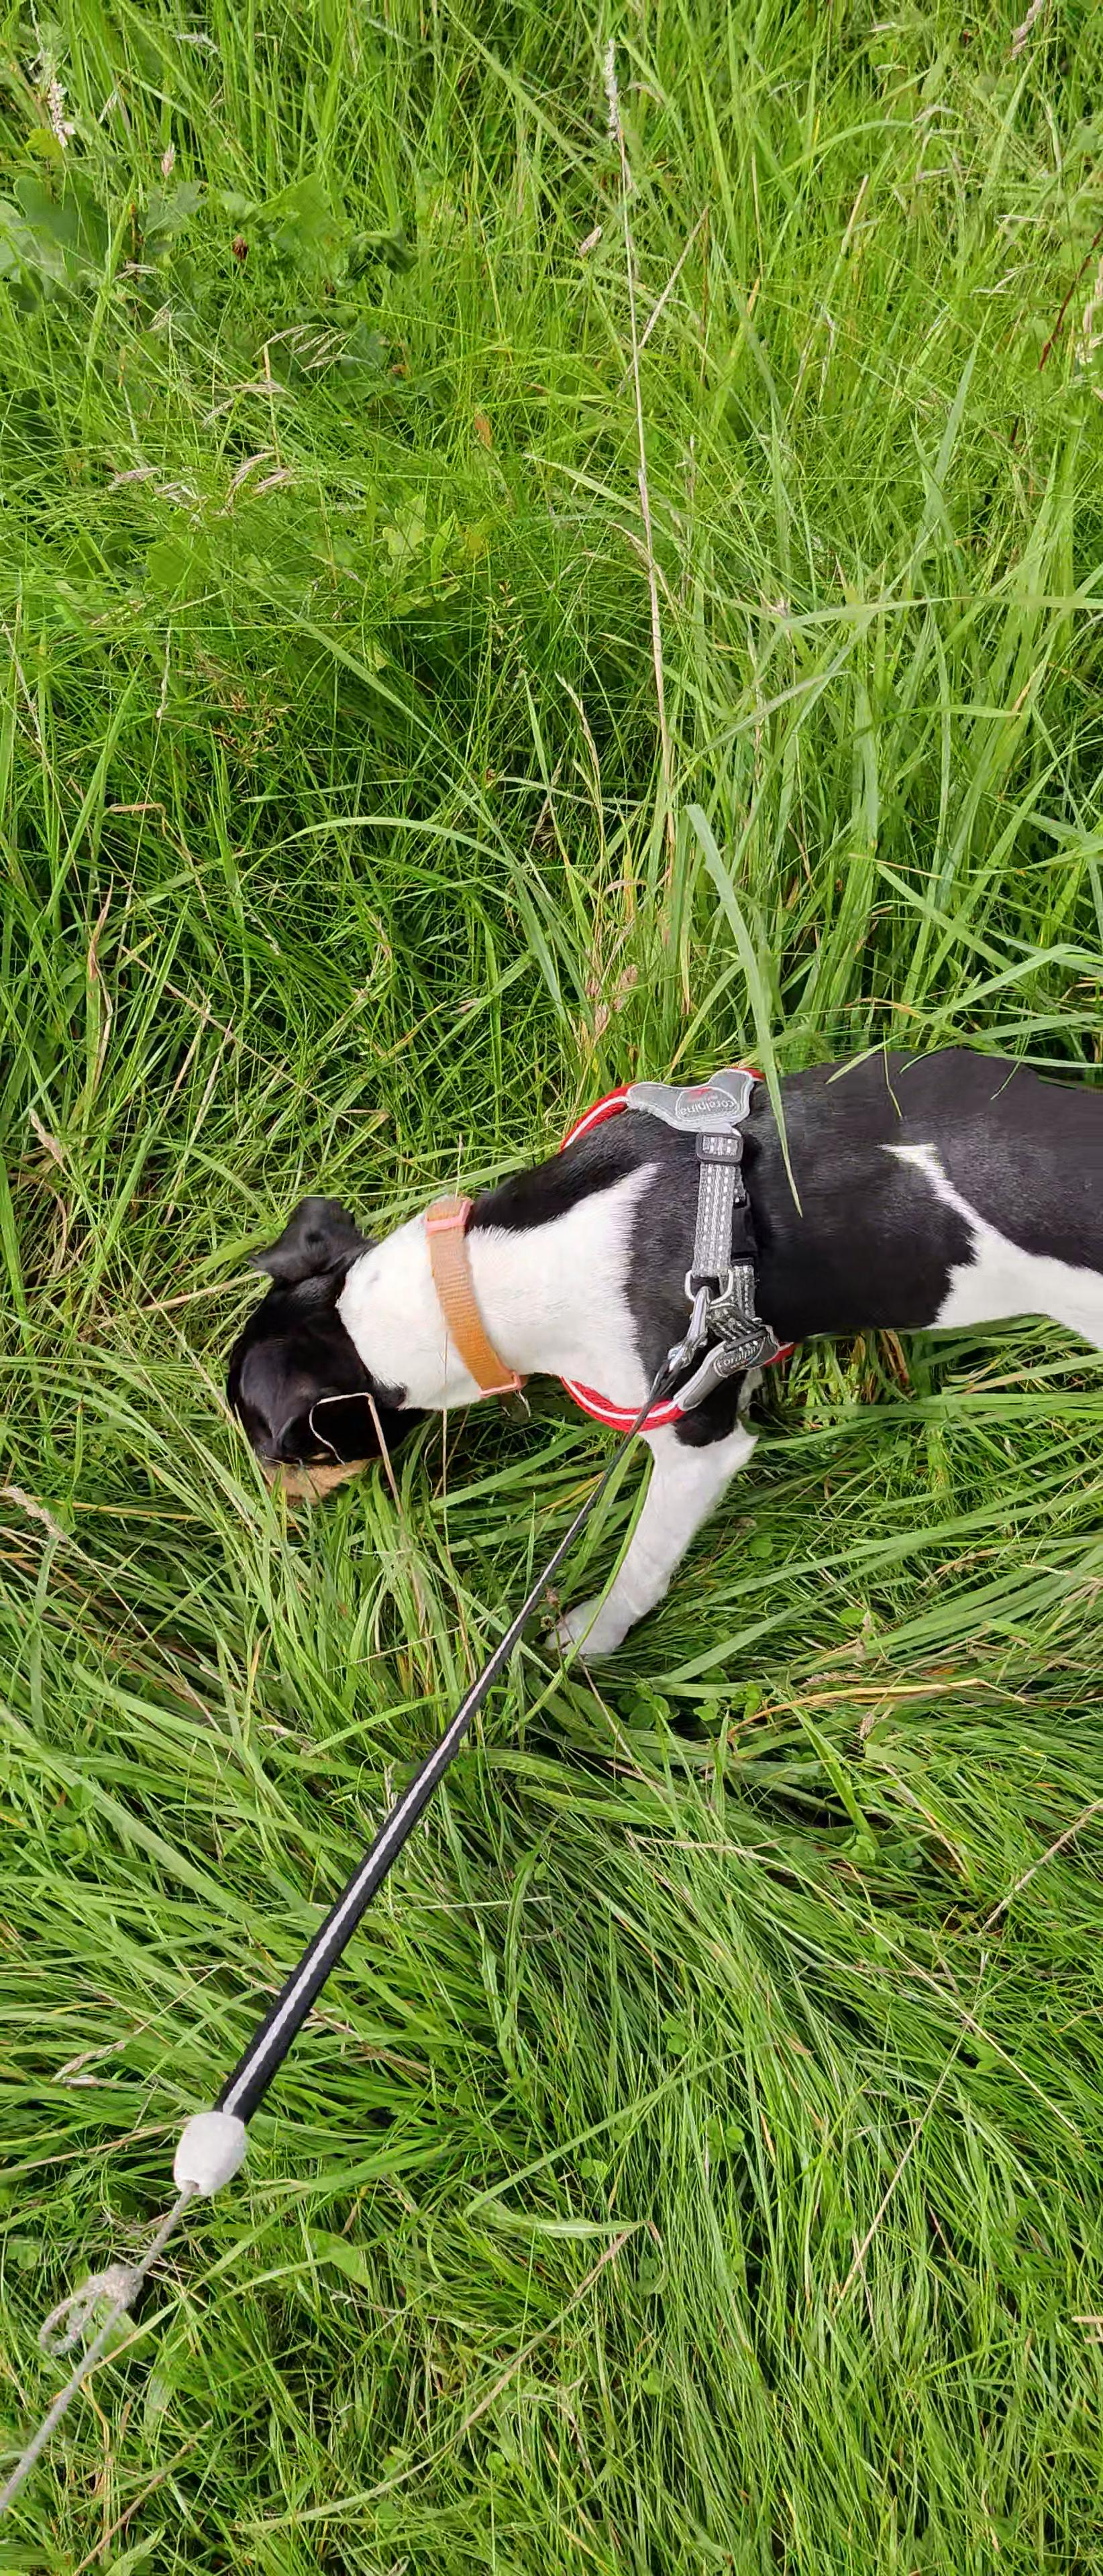Dog: (209, 1038, 1103, 1676)
